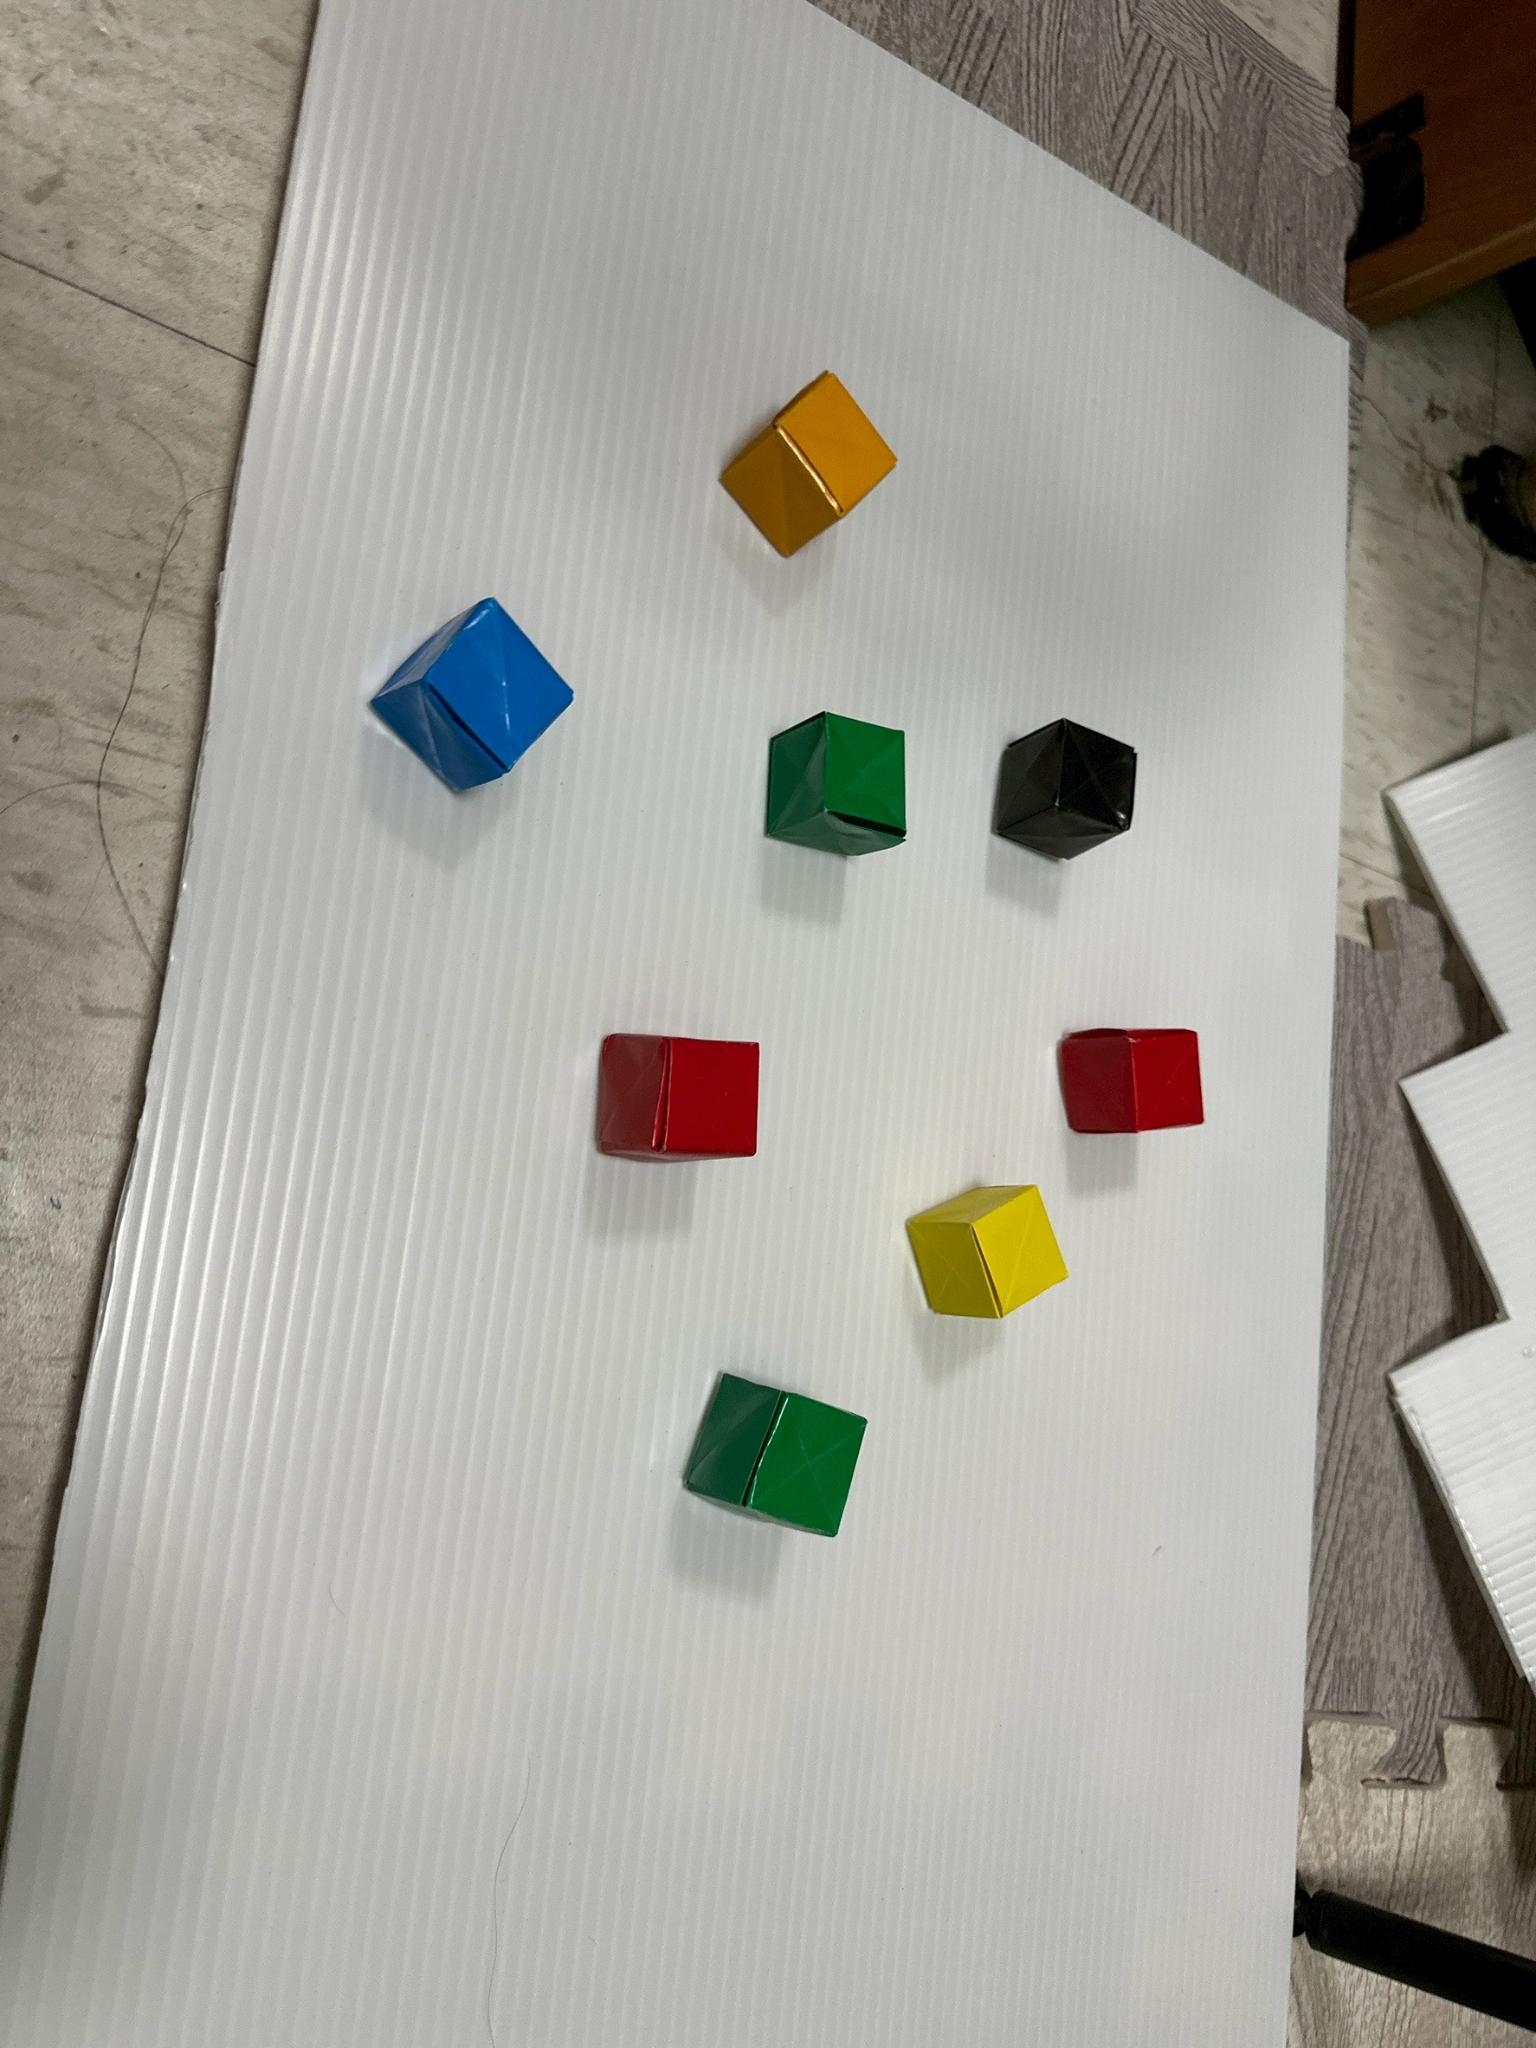base: (371, 598, 573, 789), (721, 371, 895, 556), (765, 713, 907, 856), (992, 718, 1136, 860), (1060, 1029, 1204, 1134)
